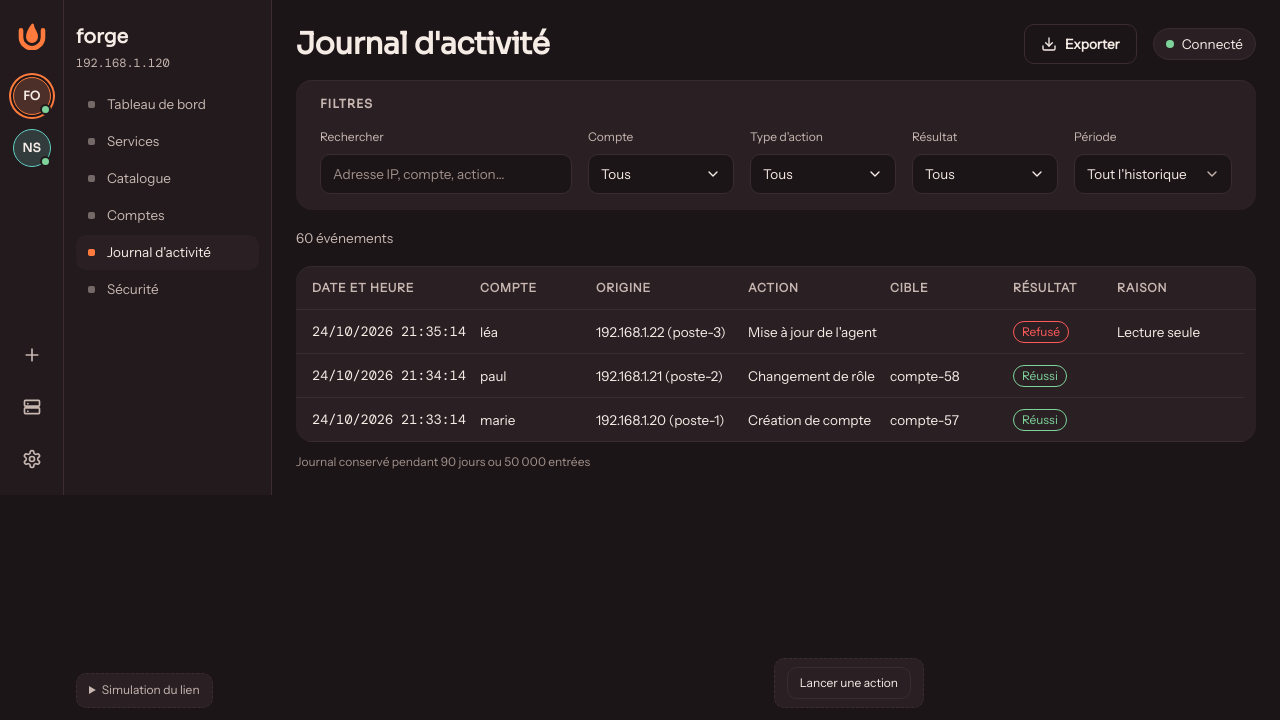
Test: page Journal d'activité › pas de bouton « Appliquer » ; Entrée dans la recherche filtre ; « Effacer les filtres » revient au journal complet
The image size is (1280, 720).
Expected: the text "Effacer les filtres" is not shown
Type "zzz-introuvable" into the search field labelled "Rechercher".
click(446, 174); type("zzz-introuvable")  # box [321,155,571,194]
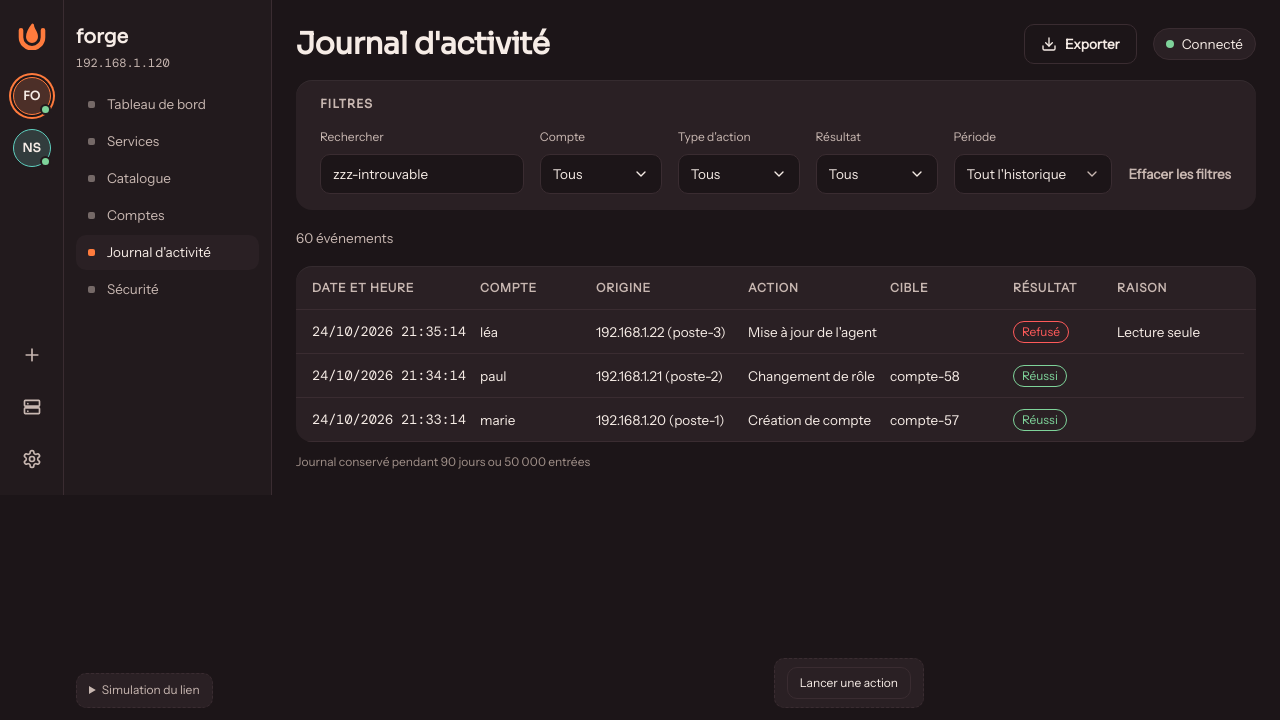
Submit the form, box [296,80,1256,210]
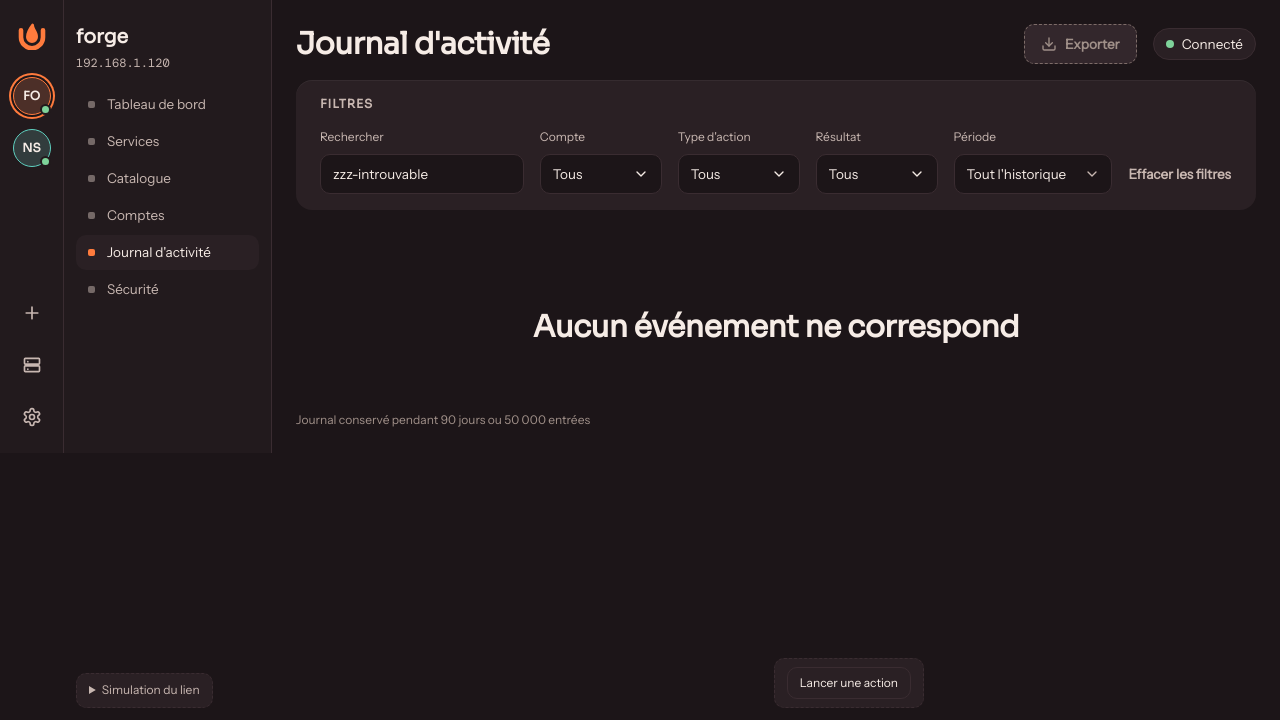
Expected: the button with aria-label "Effacer les filtres" is shown
Expected: the text "Aucun événement ne correspond" is shown, [533,306,1019,348]
Click the button with aria-label "Effacer les filtres".
click(1180, 174)  # box [1128,154,1232,194]
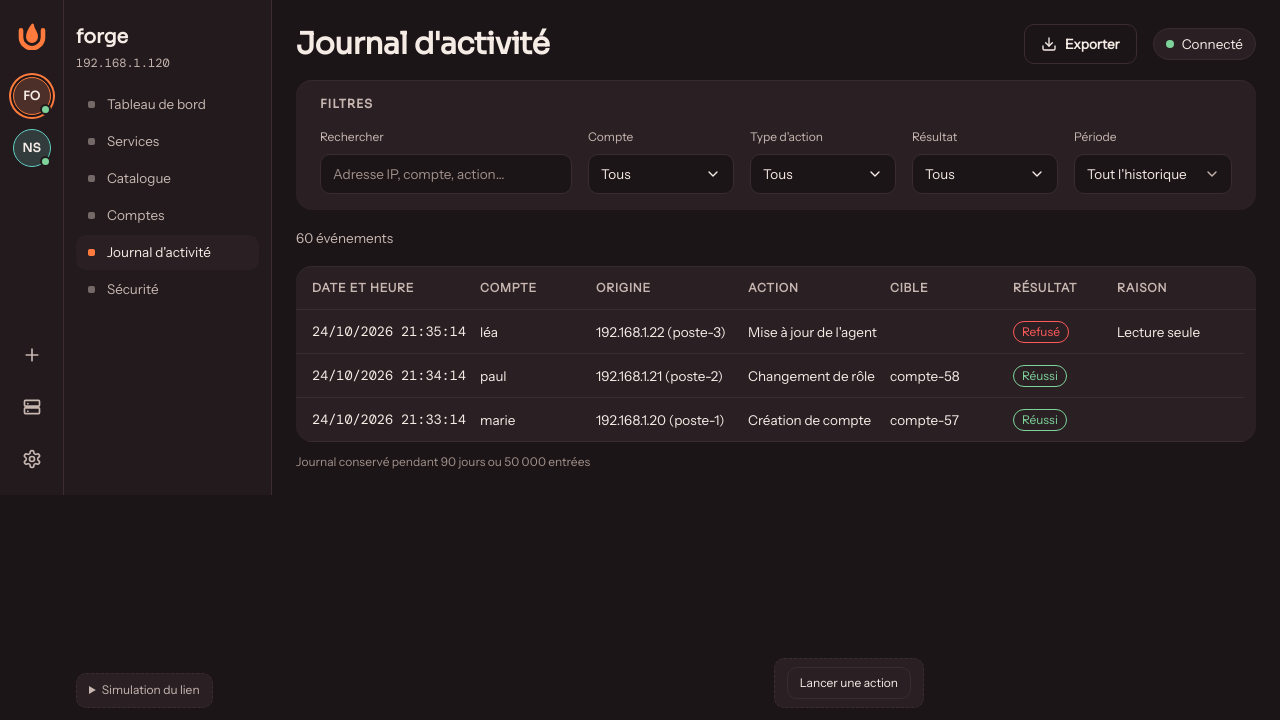
Expected: the text "Aucun événement ne correspond" is gone
Expected: the search field labelled "Rechercher" is empty, [321,155,571,194]
Expected: the table is shown, [296,266,1256,442]
